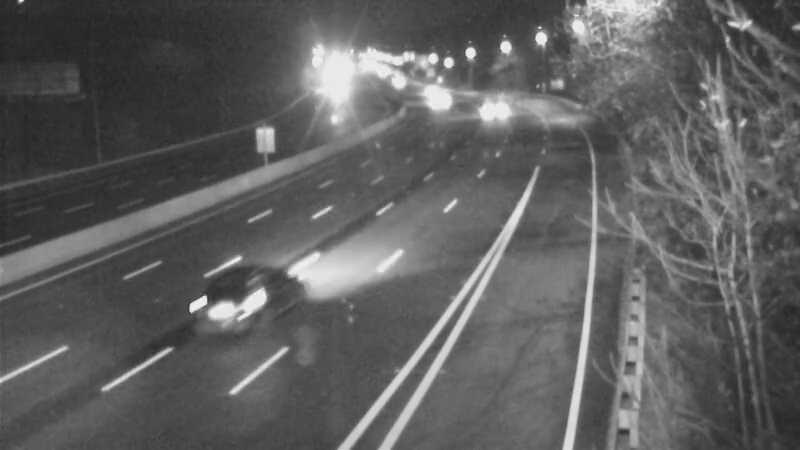vehicle: (168, 247, 278, 357), (403, 62, 453, 112), (413, 76, 463, 126), (464, 82, 514, 132)
